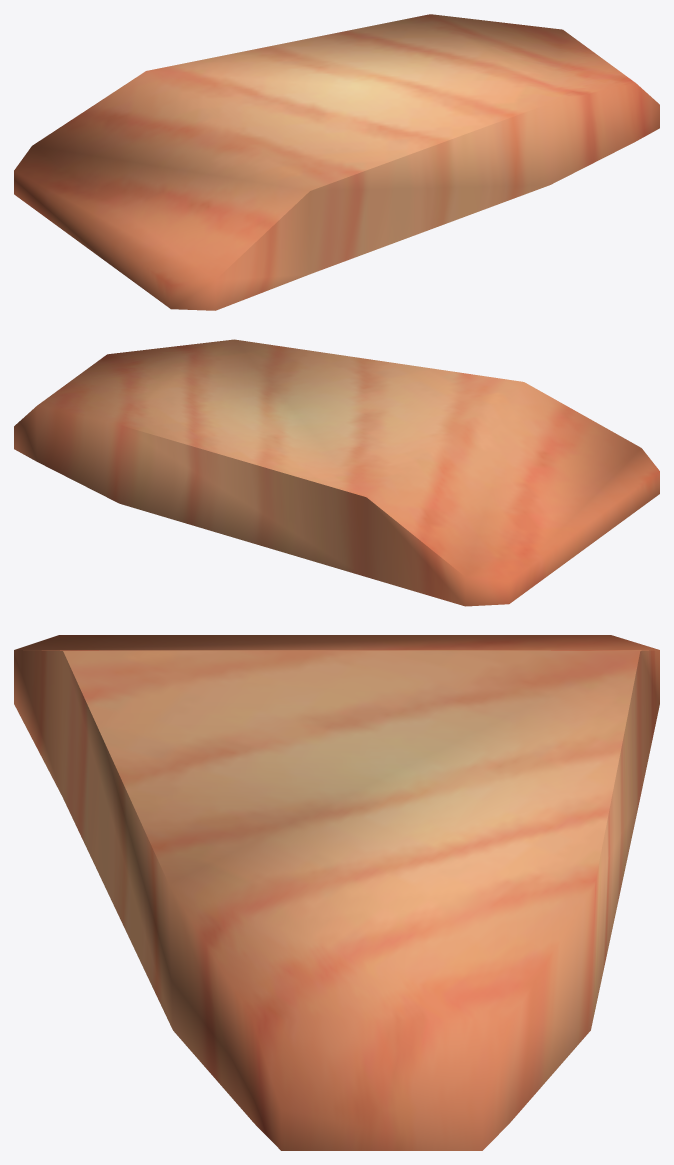
File: CookedSaltWaterFish.fbx
The picture shows the model from 3 angles, top to bottom: view 1: azimuth 30°, elevation 25°; view 2: azimuth 150°, elevation 25°; view 3: azimuth 270°, elevation 25°; orthographic projection. The views are drawn at different scales.
Parts seen in each view (by area): view 1: Meat; view 2: Meat; view 3: Meat.
Part boxes in pixels (x1=…): Meat: x1=14, y1=14, x2=659, y2=310; Meat: x1=14, y1=339, x2=659, y2=606; Meat: x1=14, y1=635, x2=659, y2=1150.
Bounding box in the file's own units: 1.03 × 0.1488 × 0.5955.
